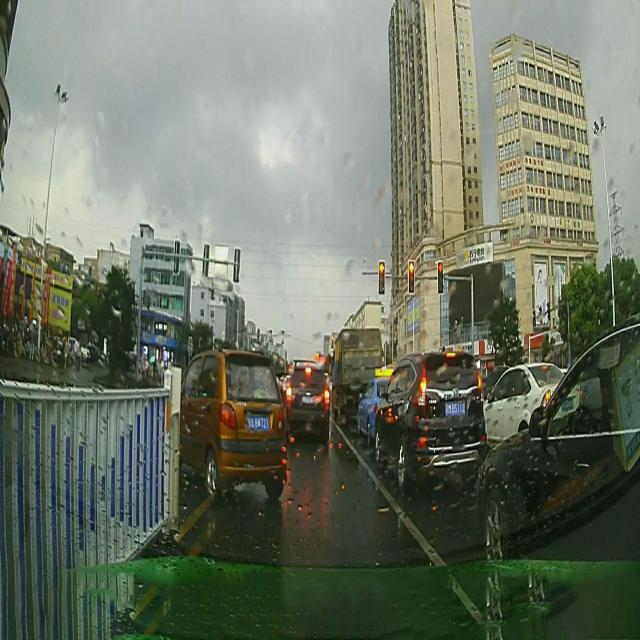car: (475, 300, 640, 640), (180, 340, 291, 500), (370, 340, 484, 482), (478, 360, 588, 442), (280, 360, 332, 440), (352, 363, 394, 436)
